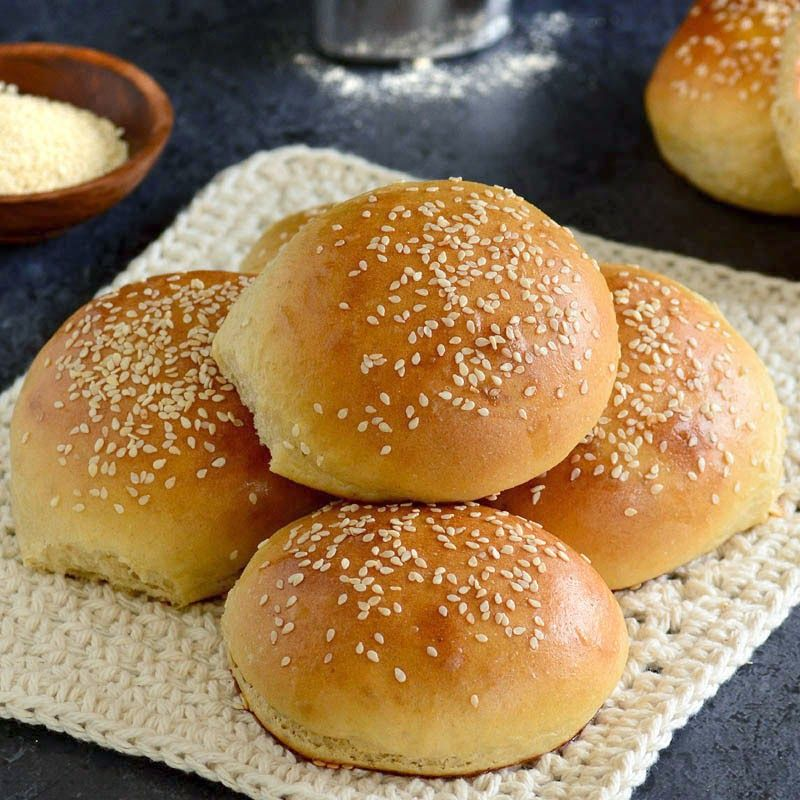hamburger_buns: (193, 473, 650, 785), (225, 172, 638, 509)
